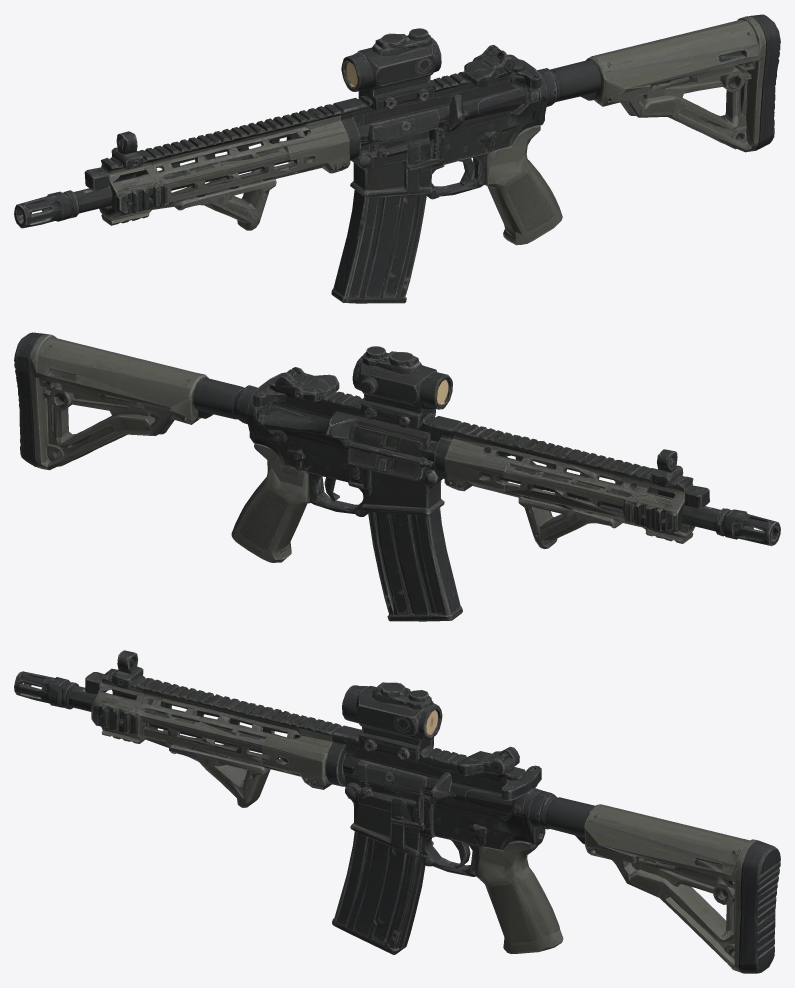
Rendered from Rifle.glb.
The picture shows the model from 3 angles, top to bottom: view 1: azimuth 30°, elevation 25°; view 2: azimuth 150°, elevation 25°; view 3: azimuth 330°, elevation 25°; orthographic projection.
Bounding box in the file's own units: 1.9 × 0.6359 × 0.1579.
1 material, 1 textured.
